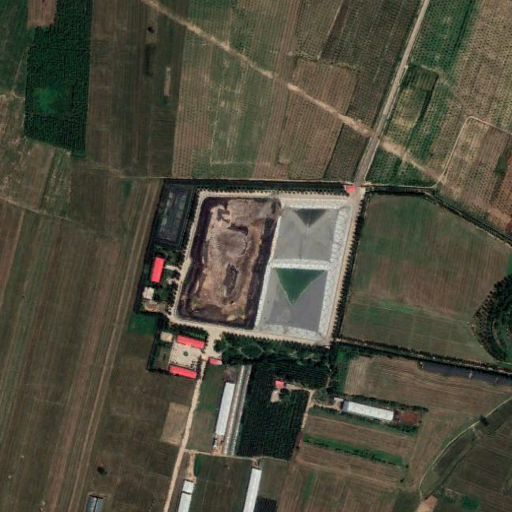lf: (169, 193, 348, 345)
